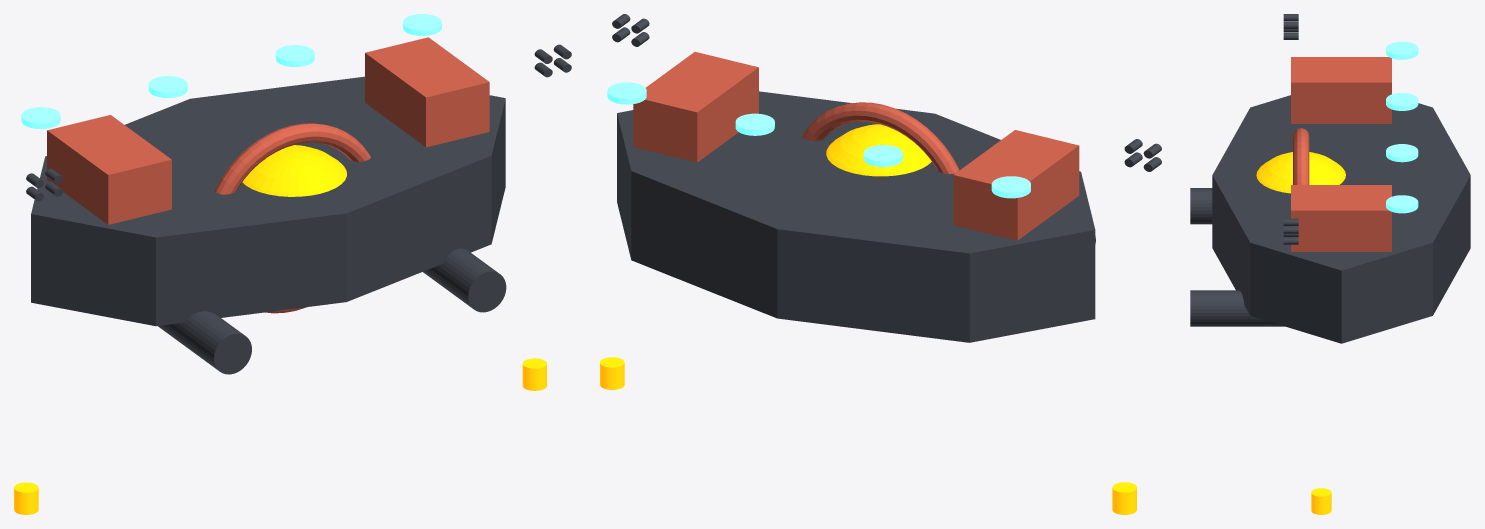
Rendered from boss.glb.
3 views of the same model, side by side, from view 1: azimuth 30°, elevation 25°; view 2: azimuth 150°, elevation 25°; view 3: azimuth 270°, elevation 25° (orthographic). The views are drawn at different scales.
Visible parts, largest first — view 1: BossChassis, MissilePod_R, MissilePod_L, BossCore, CoreRing, BossCannon_L, BossCannon_R, CannonMuzzle_L, CannonMuzzle_R, BossEngineGlow_L1, BossEngineGlow_L2, BossEngineGlow_R2 (+1 smaller); view 2: BossChassis, MissilePod_R, MissilePod_L, CoreRing, BossCore, CannonMuzzle_L, CannonMuzzle_R, BossEngineGlow_L1, BossEngineGlow_R1, BossEngineGlow_R2, BossEngineGlow_L2; view 3: BossChassis, MissilePod_L, MissilePod_R, BossCannon_R, BossCore, CoreRing, BossCannon_L, CannonMuzzle_R, BossEngineGlow_L1, BossEngineGlow_R1, BossEngineGlow_R2, BossEngineGlow_L2.
Boxes of the visible parts, bbox=[...] form: BossChassis: bbox=[31, 76, 505, 326]; MissilePod_R: bbox=[365, 37, 489, 147]; MissilePod_L: bbox=[47, 115, 171, 224]; BossCore: bbox=[242, 145, 346, 196]; CoreRing: bbox=[215, 123, 370, 313]; BossCannon_L: bbox=[158, 311, 251, 374]; BossCannon_R: bbox=[423, 248, 506, 312]; CannonMuzzle_L: bbox=[14, 482, 38, 514]; CannonMuzzle_R: bbox=[522, 358, 546, 390]; BossEngineGlow_L1: bbox=[21, 107, 60, 128]; BossEngineGlow_L2: bbox=[148, 76, 187, 97]; BossEngineGlow_R2: bbox=[275, 45, 314, 66]; BossChassis: bbox=[617, 91, 1095, 342]; MissilePod_R: bbox=[633, 52, 758, 162]; MissilePod_L: bbox=[953, 130, 1079, 240]; CoreRing: bbox=[802, 102, 959, 174]; BossCore: bbox=[826, 124, 931, 176]; CannonMuzzle_L: bbox=[1112, 482, 1136, 514]; CannonMuzzle_R: bbox=[600, 357, 624, 389]; BossEngineGlow_L1: bbox=[991, 176, 1030, 198]; BossEngineGlow_R1: bbox=[607, 82, 646, 104]; BossEngineGlow_R2: bbox=[735, 113, 774, 135]; BossEngineGlow_L2: bbox=[863, 145, 902, 166]; BossChassis: bbox=[1212, 95, 1470, 343]; MissilePod_L: bbox=[1291, 57, 1391, 123]; MissilePod_R: bbox=[1291, 185, 1391, 251]; BossCannon_R: bbox=[1190, 290, 1284, 326]; BossCore: bbox=[1256, 152, 1345, 193]; CoreRing: bbox=[1293, 128, 1309, 184]; BossCannon_L: bbox=[1190, 188, 1212, 224]; CannonMuzzle_R: bbox=[1311, 488, 1331, 514]; BossEngineGlow_L1: bbox=[1386, 41, 1418, 59]; BossEngineGlow_R1: bbox=[1386, 195, 1418, 213]; BossEngineGlow_R2: bbox=[1386, 144, 1418, 162]; BossEngineGlow_L2: bbox=[1386, 93, 1418, 110].
Size of the model in its own units: 5.06 by 3.14 by 2.78.
